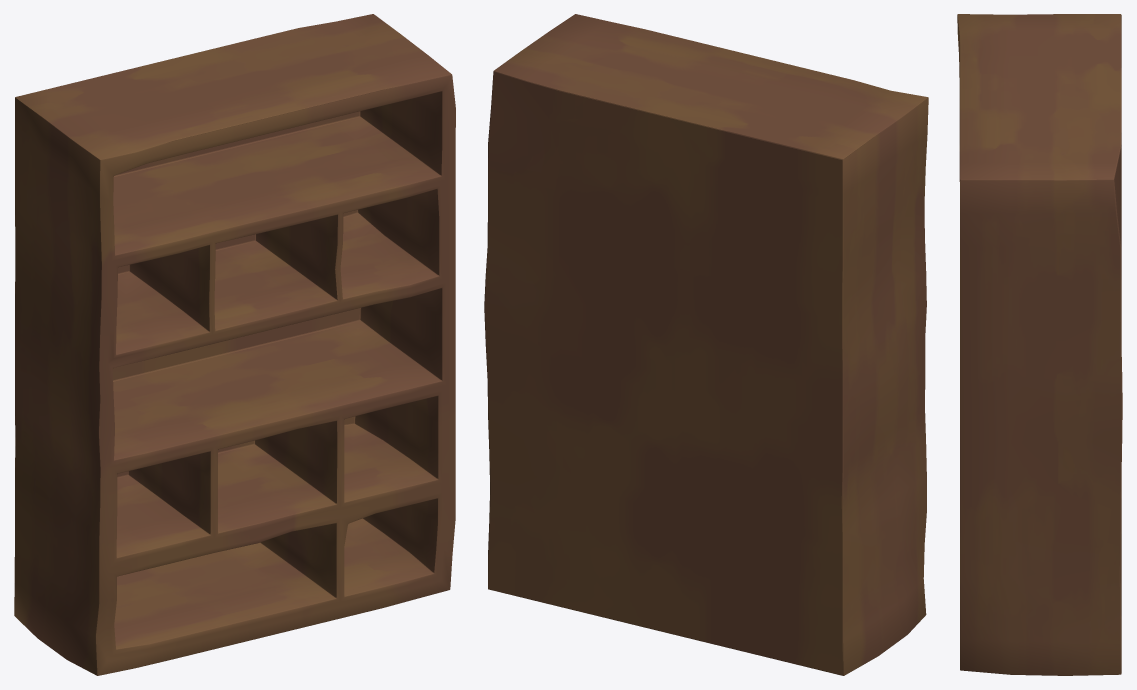
Rendered from bookshelf.fbx.
3 renders of one model, left to right at view 1: azimuth 30°, elevation 25°; view 2: azimuth 150°, elevation 25°; view 3: azimuth 270°, elevation 25°, orthographic. The views are drawn at different scales.
Parts seen in each view (by area): view 1: Cube; view 2: Cube; view 3: Cube.
Boxes of the visible parts, x1=… form: Cube: x1=14, y1=14, x2=455, y2=675; Cube: x1=484, y1=14, x2=928, y2=675; Cube: x1=957, y1=14, x2=1122, y2=675.
Bounding box in the file's own units: 3.94 × 5.33 × 1.61.
